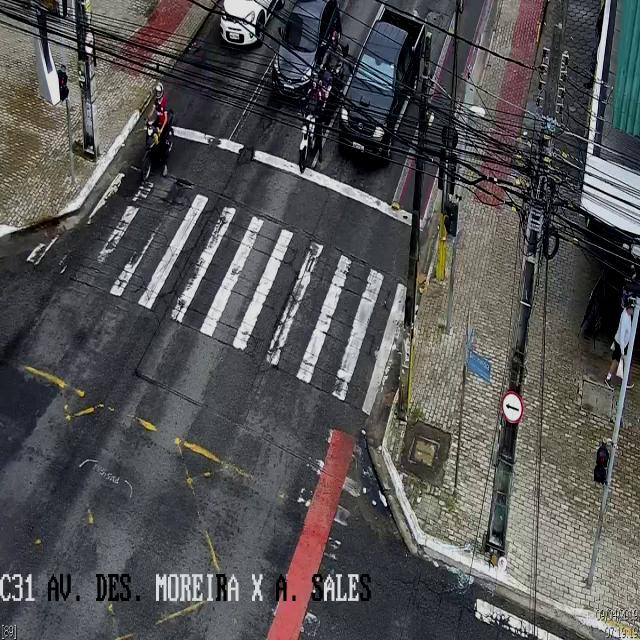Car: (341, 8, 421, 164), (272, 4, 342, 103), (219, 0, 280, 47)
Motorcycle: (142, 82, 172, 180), (298, 78, 324, 172)
